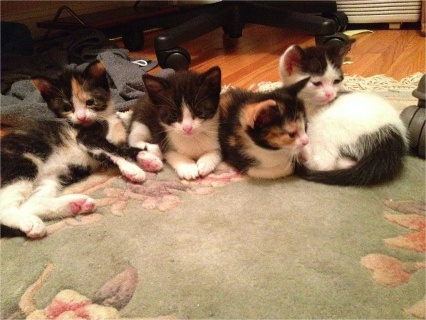Cat: (0, 58, 145, 239), (280, 37, 411, 189), (125, 64, 221, 177), (220, 74, 311, 180)
